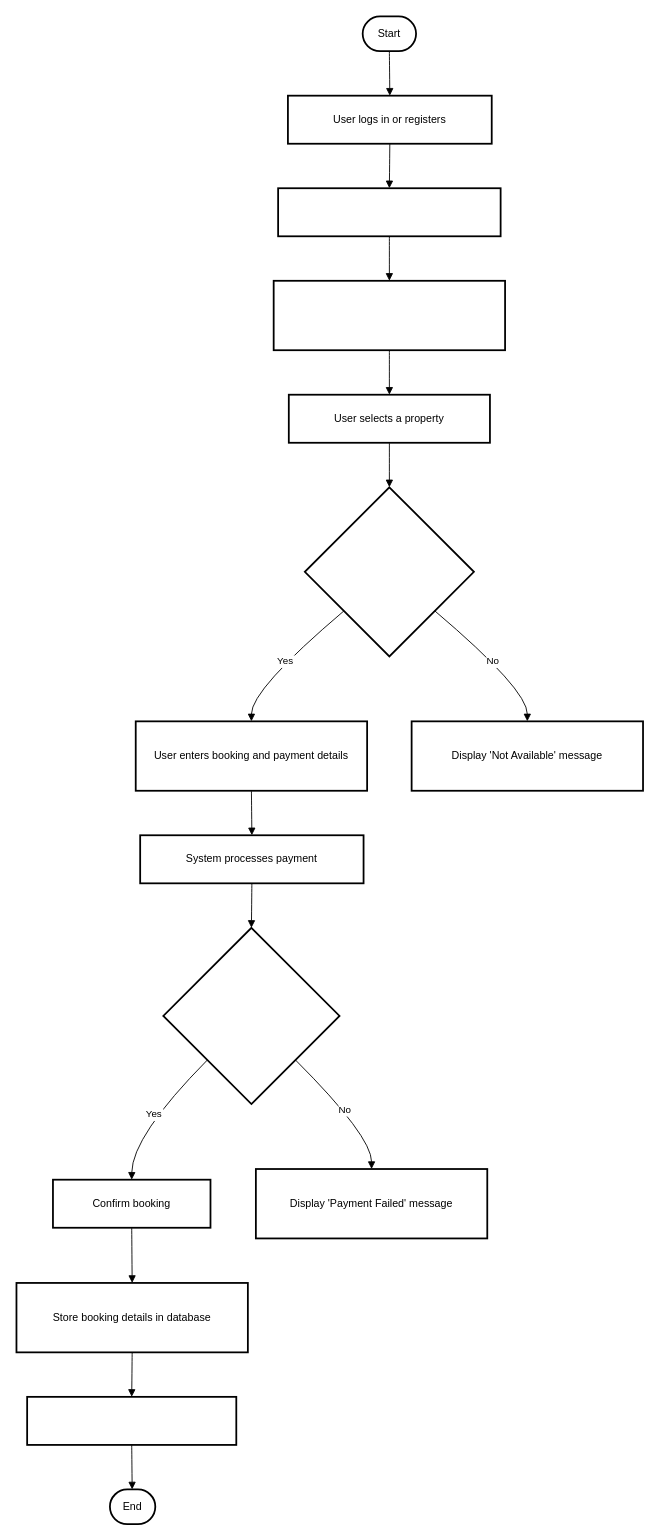
The diagram is 659 pixels wide and 1540 high, and some of its shapes have lost their labels. Here are the shapes that lost their labels. From the top down, the centre of each, then its label:
At pixel 389 212: "User searches for property".
At pixel 389 315: "System displays available properties".
At pixel 388 571: "Property available?".
At pixel 251 1015: "Payment successful?".
At pixel 131 1420: "Send confirmation email".
